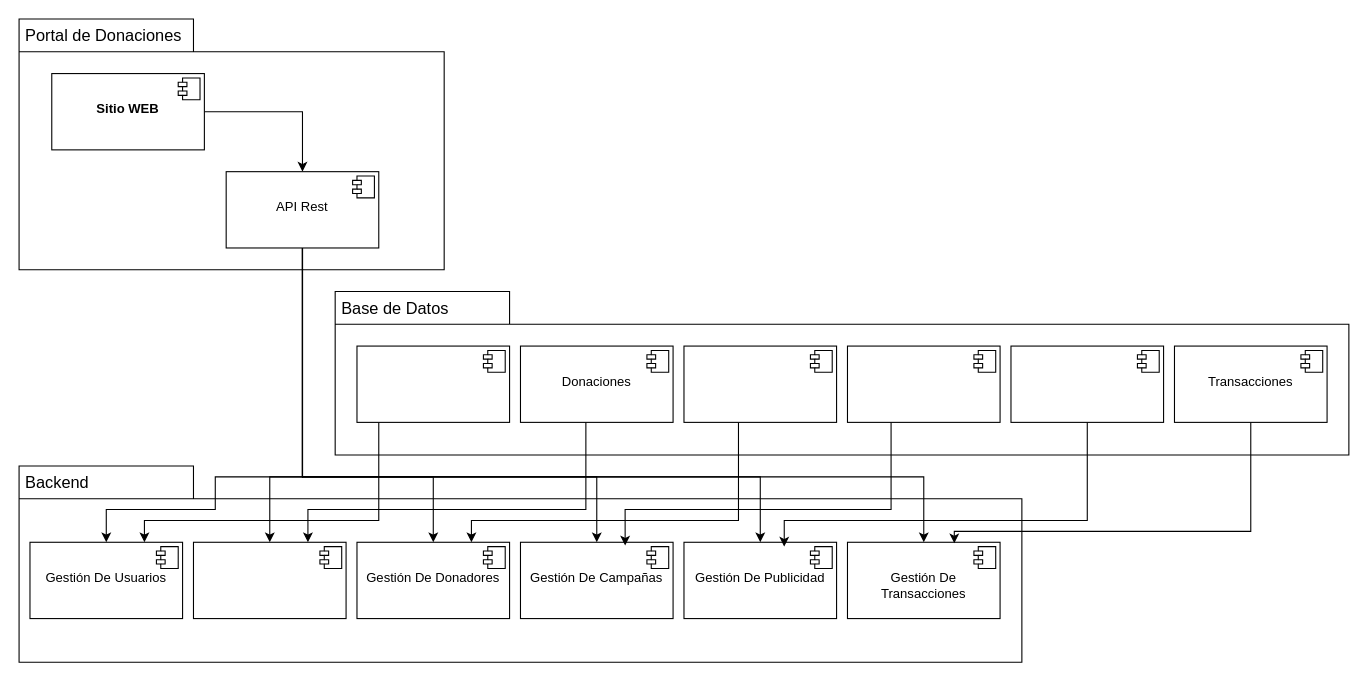
This 1368x681 diagram has some shape labels left out. Here are the shapes that lost their labels. From the top down, the centre of each, then its label:
At point (433, 383): "Usuarios".
At point (760, 383): "Donadores".
At point (923, 383): "Campañas".
At point (1087, 383): "Publicidad".
At point (269, 580): "Gestión de donaciones".
